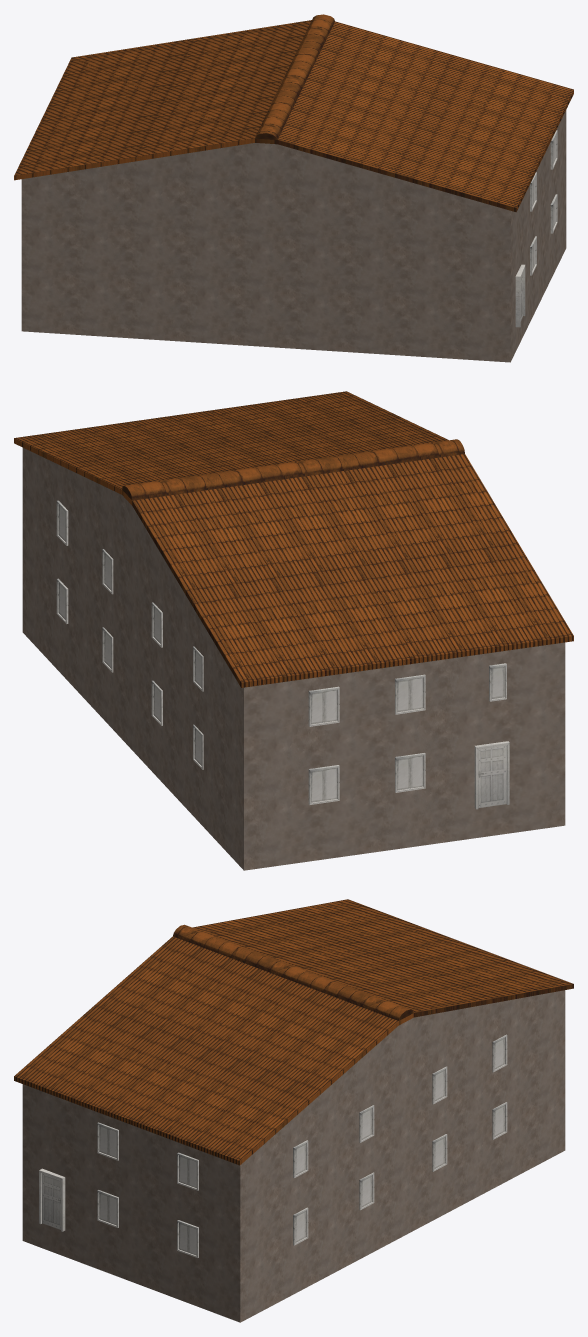
File: Casa_3.fbx
3 renders of one model, top to bottom at view 1: azimuth 30°, elevation 25°; view 2: azimuth 150°, elevation 25°; view 3: azimuth 270°, elevation 25°, orthographic. The views are drawn at different scales.
Visible parts, largest first — view 1: Casa_3; view 2: Casa_3; view 3: Casa_3.
Boxes of the visible parts, x1,y1,x2,y2 form: Casa_3: [14, 14, 573, 362]; Casa_3: [14, 391, 573, 870]; Casa_3: [14, 899, 573, 1322].
Size of the model in its own units: 21.12 by 8.57 by 19.09.
